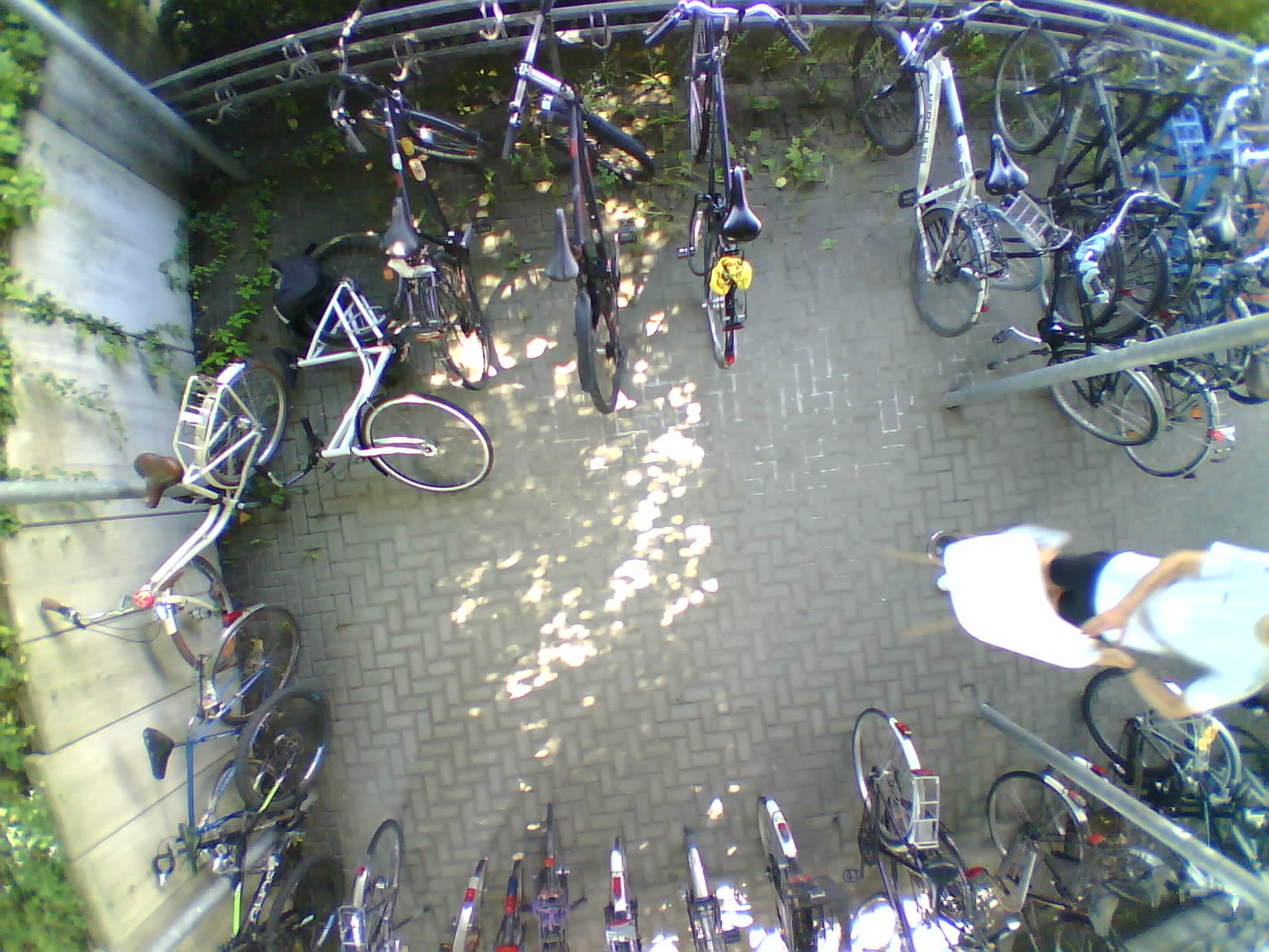bicylce: (268, 223, 493, 495), (853, 9, 1022, 337), (938, 203, 1160, 446), (1001, 17, 1170, 332), (349, 56, 495, 380), (131, 347, 277, 667), (538, 34, 652, 407), (675, 6, 774, 369), (840, 701, 975, 952), (182, 607, 296, 871), (984, 761, 1119, 952), (232, 697, 332, 952)
saddle: (274, 238, 330, 315), (714, 165, 763, 240), (540, 204, 585, 285), (369, 195, 427, 257), (129, 452, 186, 512), (977, 133, 1029, 195), (1128, 154, 1175, 212), (913, 860, 960, 911), (1199, 192, 1241, 247), (139, 725, 178, 783), (1083, 892, 1123, 937)
